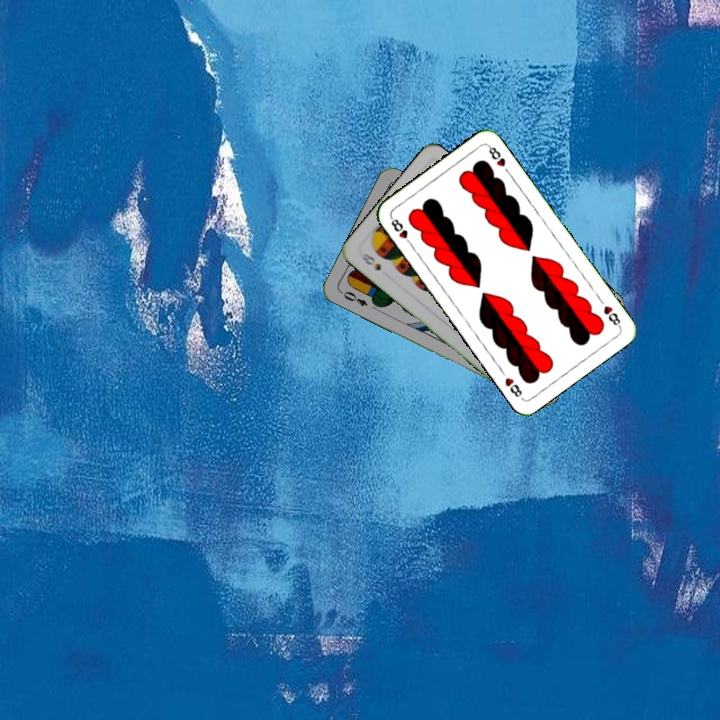EO: (336, 287, 370, 309)
H8: (386, 213, 415, 248), (599, 301, 623, 330)
S8: (357, 249, 384, 274)
